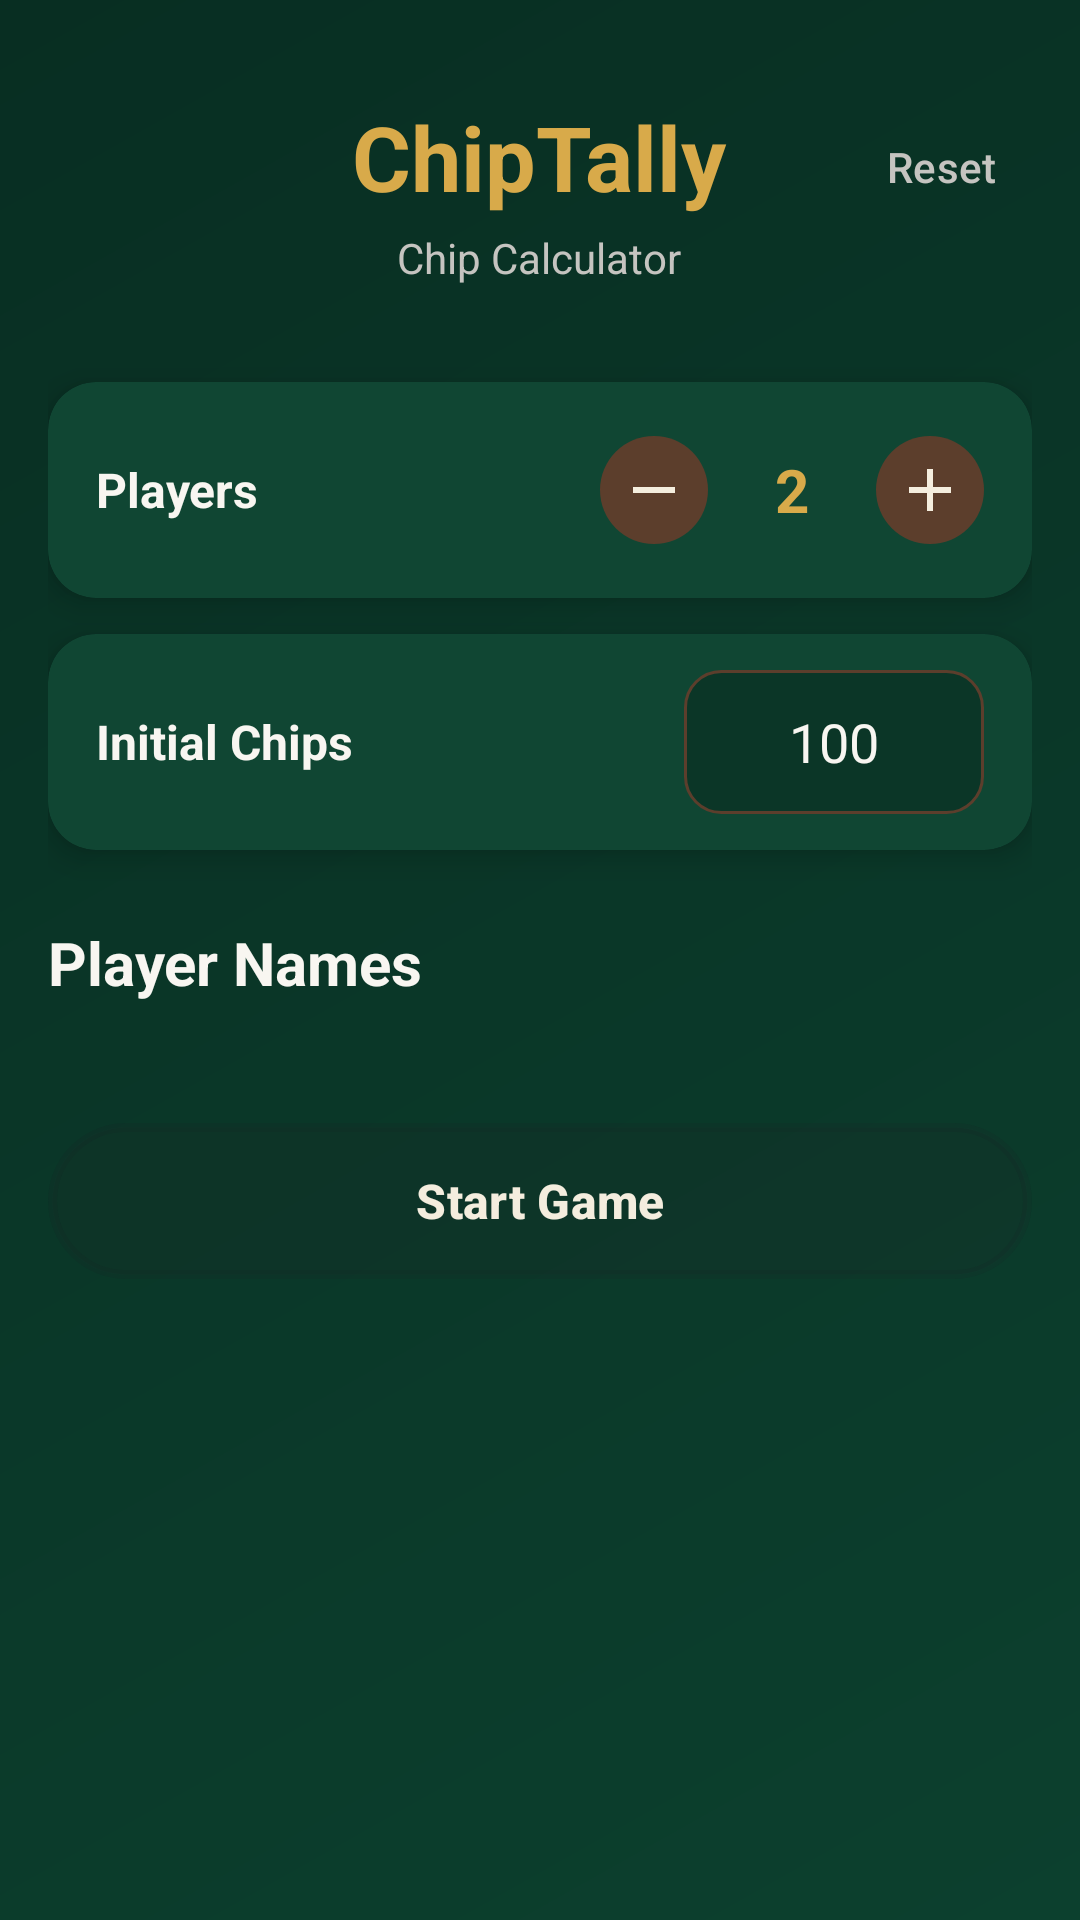

Icon bounding boxes for this 1080px×1920px phone screenshot, format (x1, y1, x2, y2):
Increase players: (876, 436, 984, 544)
